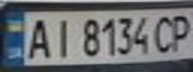1: (97, 15, 118, 56)
3: (115, 15, 136, 56)
4: (130, 12, 154, 55)
8: (78, 15, 103, 57)
A: (21, 15, 54, 60)
C: (151, 11, 178, 54)
I: (48, 16, 78, 58)
P: (166, 11, 193, 53)
